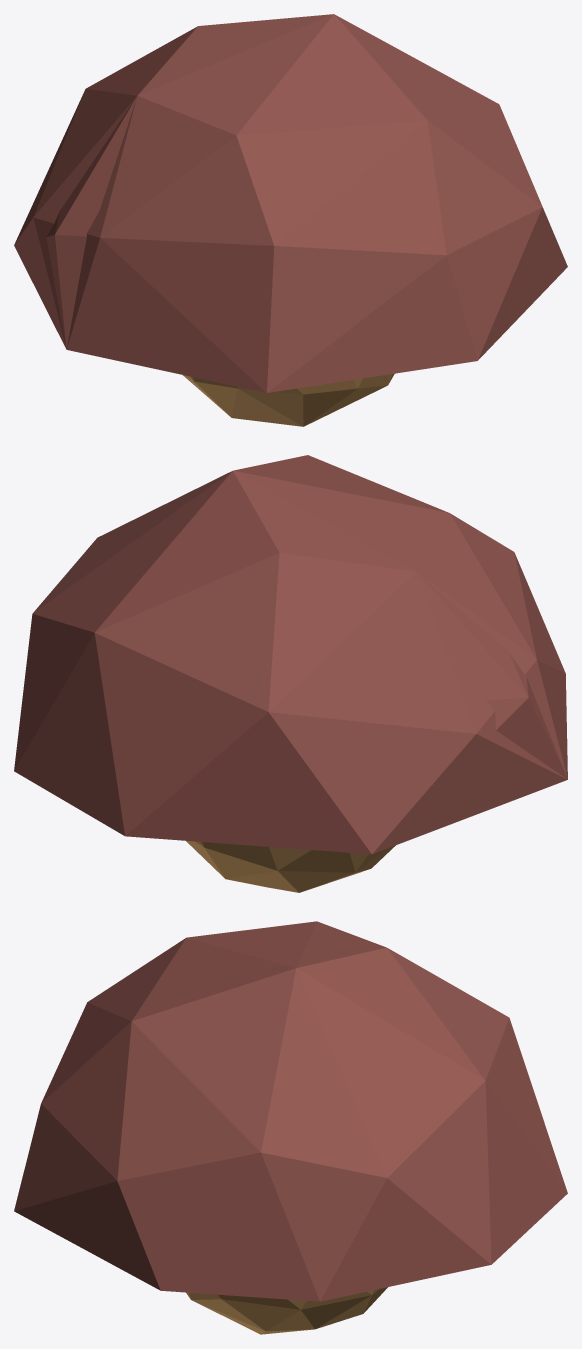
Rendered from Mushroom 1.fbx.
3 renders of one model, top to bottom at view 1: azimuth 30°, elevation 25°; view 2: azimuth 150°, elevation 25°; view 3: azimuth 270°, elevation 25°, orthographic. The views are drawn at different scales.
Visible parts, largest first — view 1: Head, Body; view 2: Head, Body; view 3: Head, Body.
Boxes of the visible parts, left/top/right/bottom form: Head: left=14, top=14, right=567, bottom=392; Body: left=183, top=373, right=394, bottom=426; Head: left=14, top=455, right=567, bottom=854; Body: left=186, top=841, right=395, bottom=892; Head: left=14, top=921, right=567, bottom=1301; Body: left=186, top=1287, right=387, bottom=1334.
Size of the model in its own units: 1.17 by 0.8836 by 1.17.
